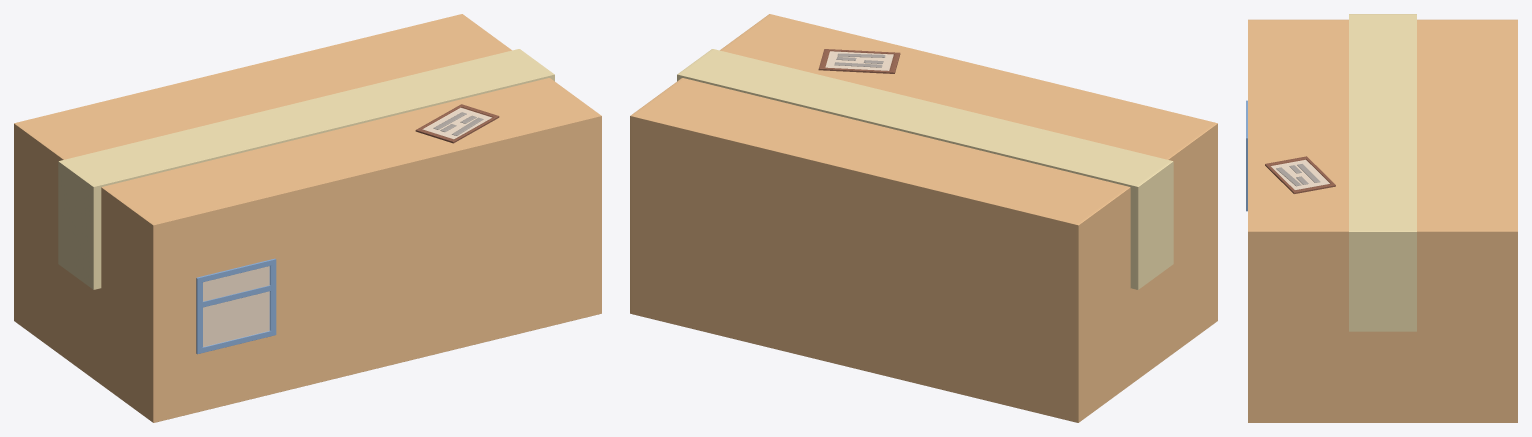
3 renders of one model, left to right at view 1: azimuth 30°, elevation 25°; view 2: azimuth 150°, elevation 25°; view 3: azimuth 270°, elevation 25°, orthographic. The views are drawn at different scales.
Visible parts, largest first — view 1: Box5; view 2: Box5; view 3: Box5.
Boxes of the visible parts, bbox=[...] form: Box5: bbox=[14, 14, 601, 422]; Box5: bbox=[630, 14, 1217, 422]; Box5: bbox=[1246, 14, 1517, 422].
Size of the model in its own units: 133 by 55.13 by 70.16.
